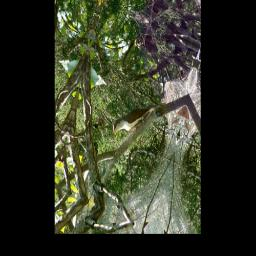Cuckoo: (110, 81, 166, 154)
